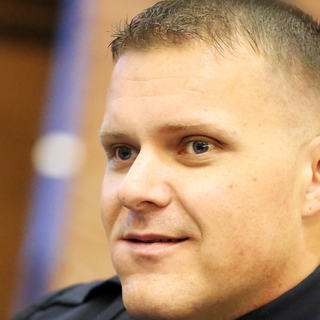eye: (171, 132, 223, 159), (104, 140, 144, 165)
